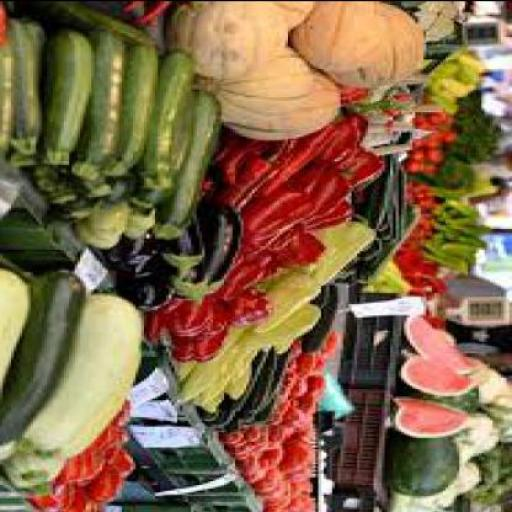biodegradable: (24, 293, 146, 461), (2, 272, 88, 446), (158, 92, 224, 242), (172, 2, 290, 80), (324, 4, 430, 88), (205, 46, 323, 120), (138, 50, 196, 188), (227, 73, 345, 140), (19, 1, 163, 53), (136, 95, 200, 211), (47, 28, 99, 168), (108, 45, 163, 177), (166, 211, 244, 303), (3, 20, 52, 158), (83, 30, 127, 183), (294, 2, 387, 72), (244, 183, 321, 254), (354, 206, 424, 284), (269, 126, 343, 196), (429, 196, 495, 274), (404, 316, 487, 374), (393, 433, 465, 499), (2, 267, 36, 398), (318, 217, 380, 284), (448, 96, 506, 166), (252, 277, 324, 333), (244, 303, 324, 352), (182, 348, 244, 409), (210, 140, 280, 194), (163, 201, 207, 285), (401, 350, 479, 397), (202, 348, 260, 410), (393, 398, 473, 440), (227, 149, 283, 209), (299, 160, 355, 220), (80, 199, 135, 251), (8, 450, 70, 493), (304, 288, 343, 354), (108, 238, 169, 280), (119, 272, 180, 314), (304, 227, 352, 279), (221, 257, 277, 301), (432, 460, 484, 506), (362, 158, 396, 226), (379, 160, 404, 245), (341, 151, 390, 194), (479, 440, 511, 504), (310, 284, 340, 352), (416, 2, 464, 44), (462, 414, 504, 461), (174, 329, 232, 361), (235, 286, 277, 329), (302, 201, 352, 237), (416, 386, 484, 412), (368, 254, 412, 294), (172, 302, 218, 338), (448, 152, 487, 194), (66, 446, 108, 484), (86, 469, 128, 505), (487, 382, 511, 444), (53, 196, 105, 224), (279, 437, 319, 473), (399, 248, 443, 280), (392, 170, 410, 248), (268, 352, 290, 410), (100, 173, 135, 209), (36, 481, 78, 511), (3, 4, 11, 156), (240, 346, 274, 380), (365, 120, 429, 138), (332, 137, 368, 169), (395, 491, 452, 511), (100, 429, 133, 463), (276, 2, 318, 28), (144, 307, 171, 347), (358, 94, 406, 116), (138, 2, 180, 26), (36, 166, 69, 196), (274, 250, 307, 280), (227, 366, 254, 402), (299, 233, 329, 265), (344, 109, 370, 145), (210, 294, 232, 336), (65, 492, 112, 511), (136, 182, 168, 209), (277, 228, 310, 254), (480, 365, 506, 397), (53, 180, 82, 208), (74, 180, 114, 200), (214, 399, 240, 429), (133, 209, 157, 241), (382, 137, 418, 157), (426, 273, 454, 297), (255, 471, 282, 495), (222, 344, 241, 378), (114, 452, 138, 478), (286, 411, 312, 435), (14, 150, 44, 170), (346, 88, 376, 108), (413, 278, 440, 300), (460, 51, 486, 73), (293, 492, 322, 511), (177, 362, 202, 384), (249, 464, 274, 486), (233, 444, 263, 462), (205, 390, 225, 416), (415, 197, 440, 217), (268, 483, 293, 503), (369, 130, 398, 147), (288, 466, 315, 484), (266, 448, 288, 470), (116, 400, 133, 428), (260, 400, 277, 428), (299, 393, 318, 418), (452, 82, 478, 100), (460, 64, 482, 85), (412, 188, 437, 206), (407, 237, 429, 257), (254, 432, 274, 454), (440, 64, 465, 81), (310, 376, 329, 398), (294, 480, 318, 497), (413, 176, 442, 190), (282, 338, 304, 356), (416, 114, 438, 132), (429, 146, 451, 164), (244, 456, 263, 476), (3, 440, 17, 467), (318, 284, 332, 310), (327, 333, 340, 361), (296, 427, 316, 444), (316, 350, 329, 376), (268, 497, 292, 511), (224, 433, 246, 448), (302, 356, 318, 376), (230, 414, 244, 435), (247, 405, 260, 427), (296, 380, 310, 399), (277, 427, 290, 447), (437, 81, 454, 96), (448, 128, 465, 143), (248, 428, 266, 442), (429, 132, 446, 146), (434, 111, 452, 124), (407, 161, 426, 173), (424, 219, 440, 231), (418, 228, 437, 238), (415, 151, 432, 162), (127, 2, 144, 12), (449, 102, 462, 115), (432, 93, 446, 105), (327, 480, 338, 495), (291, 355, 299, 375), (343, 275, 357, 286), (288, 401, 299, 414), (432, 164, 446, 174), (280, 414, 287, 429), (412, 181, 426, 188), (324, 499, 332, 511), (291, 379, 299, 391), (324, 466, 330, 480), (418, 141, 426, 151), (324, 457, 332, 467), (452, 117, 459, 128), (330, 452, 335, 458)
